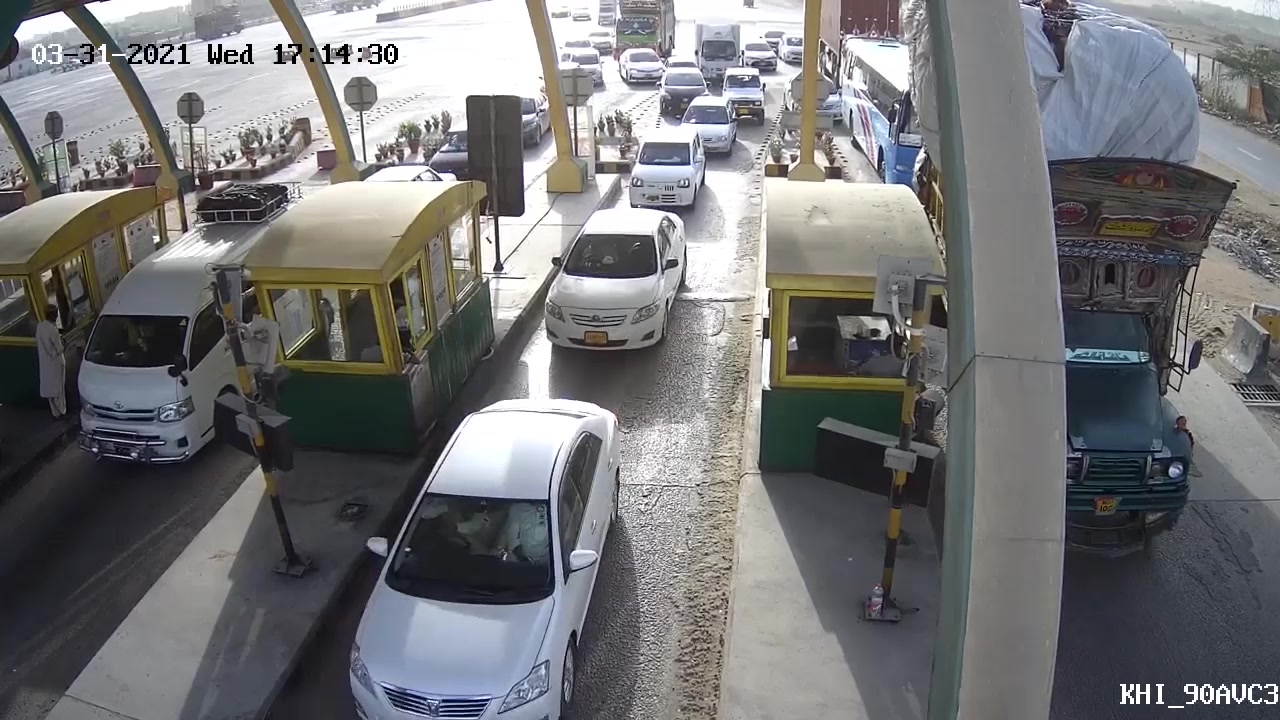F1: (538, 200, 692, 365), (623, 128, 708, 212)
